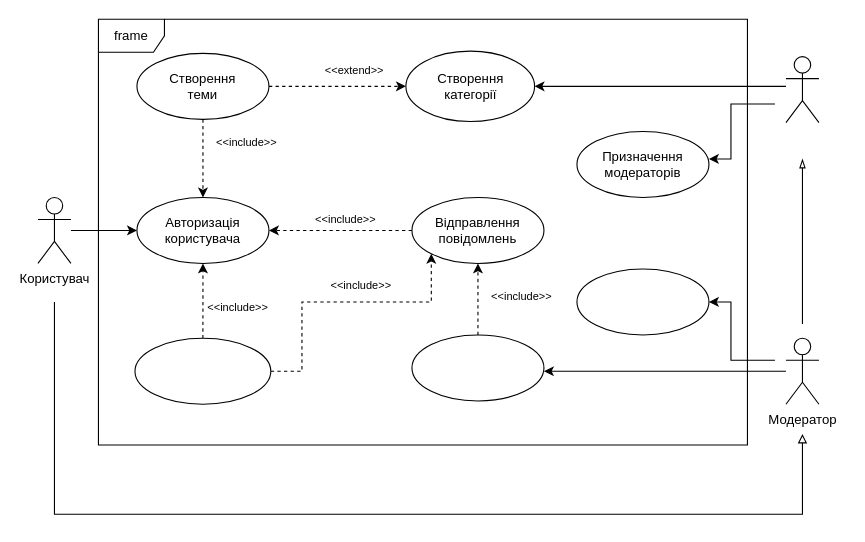
Image size: 865x542. Some labels were removed from this diagram. Here are the shapes that lost their labels. From the top down, the box of each, then its label:
(785, 56, 819, 123): Адміністратор
(576, 268, 709, 335): Модерація користувачів
(134, 337, 271, 404): Редагування повідомлень
(411, 334, 544, 401): Видалення повідомлень
